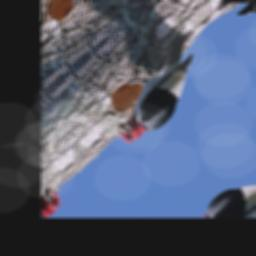Woodpecker: (89, 19, 224, 160)
